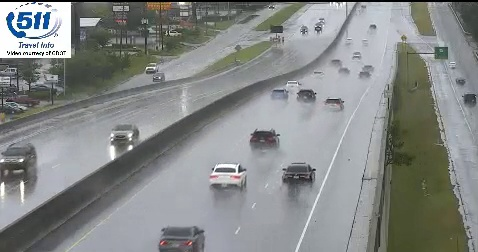car: (160, 225, 205, 252), (210, 163, 246, 187), (282, 164, 314, 185), (250, 128, 279, 149), (323, 97, 344, 112), (296, 89, 315, 104), (271, 88, 288, 100), (286, 80, 300, 92)
